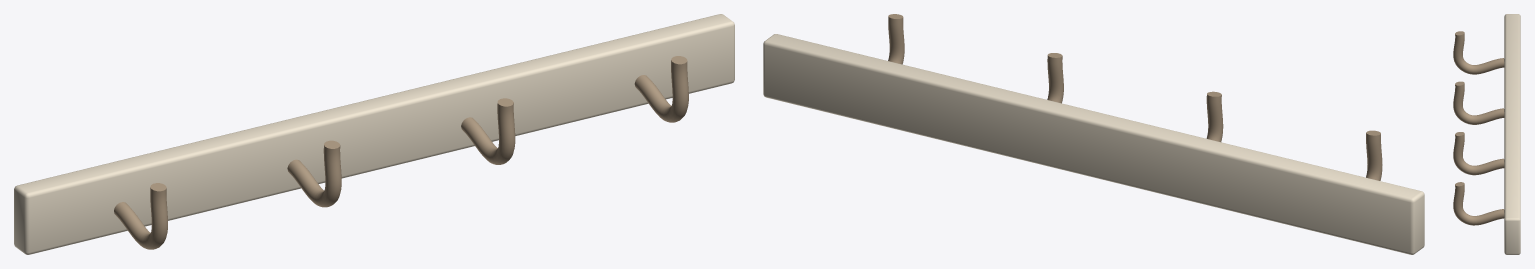
File: sg_hook_rail.glb
3 views of the same model, side by side, from view 1: azimuth 30°, elevation 25°; view 2: azimuth 150°, elevation 25°; view 3: azimuth 270°, elevation 25° (orthographic). The views are drawn at different scales.
Visible parts, largest first — view 1: rail, hook1, hook2, hook0, hook3; view 2: rail, hook3, hook0, hook2, hook1; view 3: rail, hook1, hook2, hook0, hook3.
Boxes of the visible parts, x1,y1,x2,y2 form: rail: (14,14,734,254); hook1: (287,140,341,207); hook2: (461,98,515,164); hook0: (114,183,167,249); hook3: (634,56,688,122); rail: (763,34,1424,254); hook3: (888,14,904,64); hook0: (1366,130,1382,180); hook2: (1047,53,1063,103); hook1: (1206,91,1223,141); rail: (1504,14,1520,254); hook1: (1453,81,1504,124); hook2: (1453,132,1504,175); hook0: (1453,31,1504,74); hook3: (1453,182,1504,225).
Bounding box in the file's own units: 0.6 × 0.0606 × 0.083.
